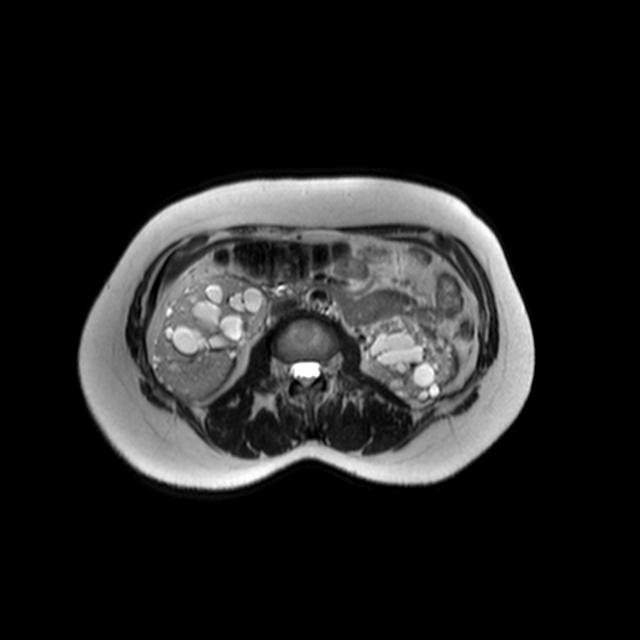sag: (150, 273, 268, 400)
sol: (364, 313, 460, 402)
